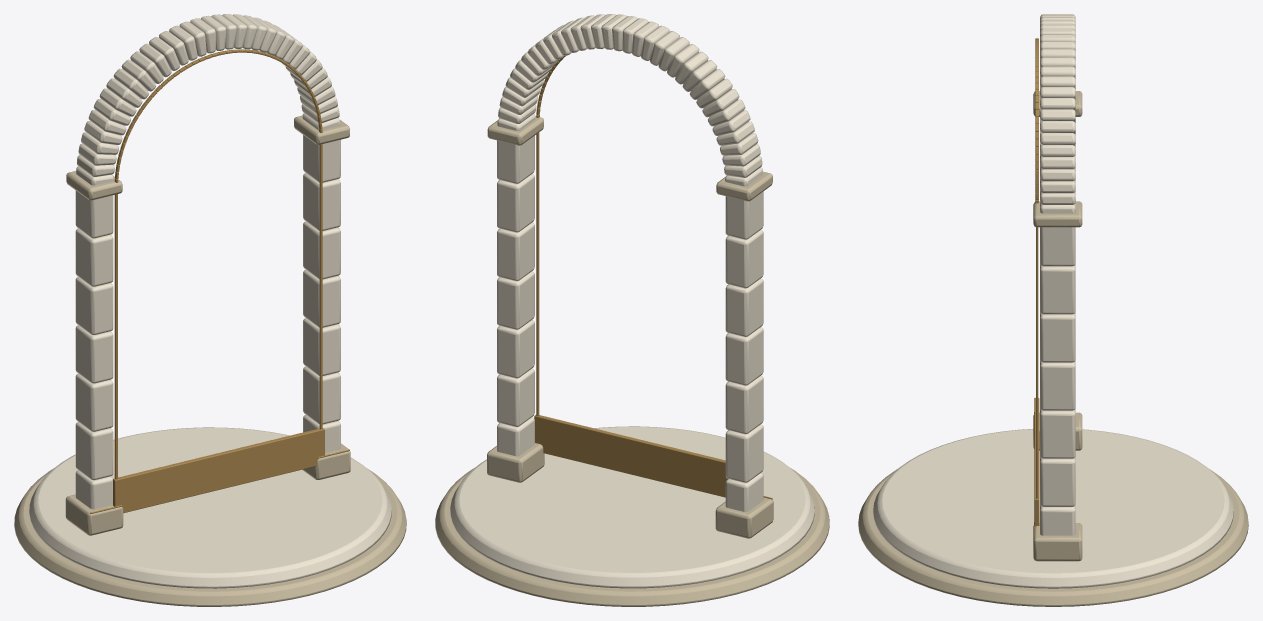
The model's file is portal_frame.glb.
3 renders of one model, left to right at view 1: azimuth 30°, elevation 25°; view 2: azimuth 150°, elevation 25°; view 3: azimuth 270°, elevation 25°, orthographic.
Parts seen in each view (by area): view 1: Detail.portal_frame.Ivory, Detail.portal_frame.Stone, Detail.portal_frame.Brass; view 2: Detail.portal_frame.Ivory, Detail.portal_frame.Stone, Detail.portal_frame.Brass; view 3: Detail.portal_frame.Ivory, Detail.portal_frame.Stone, Detail.portal_frame.Brass.
Part boxes in pixels (x1,y1,x2,y2): Detail.portal_frame.Ivory: [29, 14, 391, 588]; Detail.portal_frame.Stone: [14, 115, 406, 606]; Detail.portal_frame.Brass: [90, 49, 349, 513]; Detail.portal_frame.Ivory: [450, 14, 814, 588]; Detail.portal_frame.Stone: [435, 116, 829, 606]; Detail.portal_frame.Brass: [534, 56, 772, 499]; Detail.portal_frame.Ivory: [873, 14, 1233, 588]; Detail.portal_frame.Stone: [858, 91, 1248, 606]; Detail.portal_frame.Brass: [1034, 38, 1039, 538].
Bounding box in the file's own units: 5.26 × 7.4 × 5.26.
